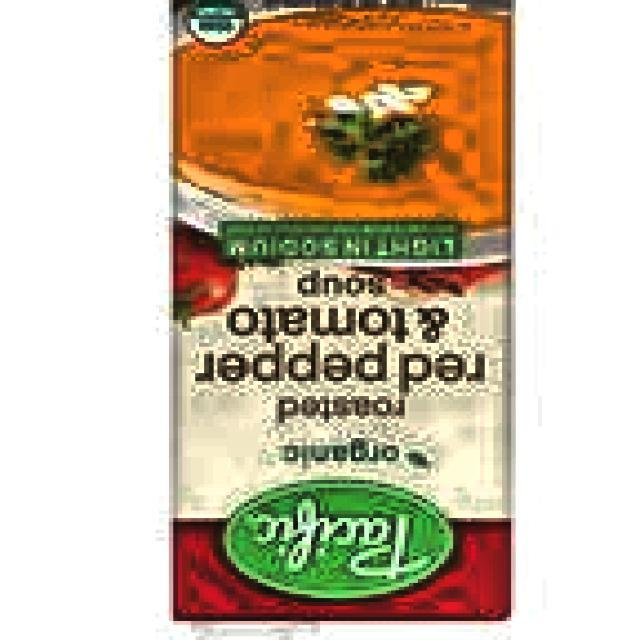cardboard: (168, 0, 516, 629)
